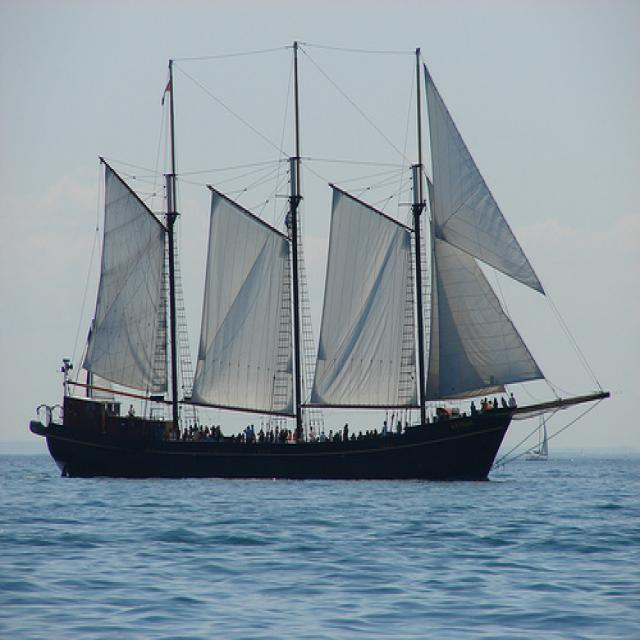Ship: (43, 55, 616, 492)
